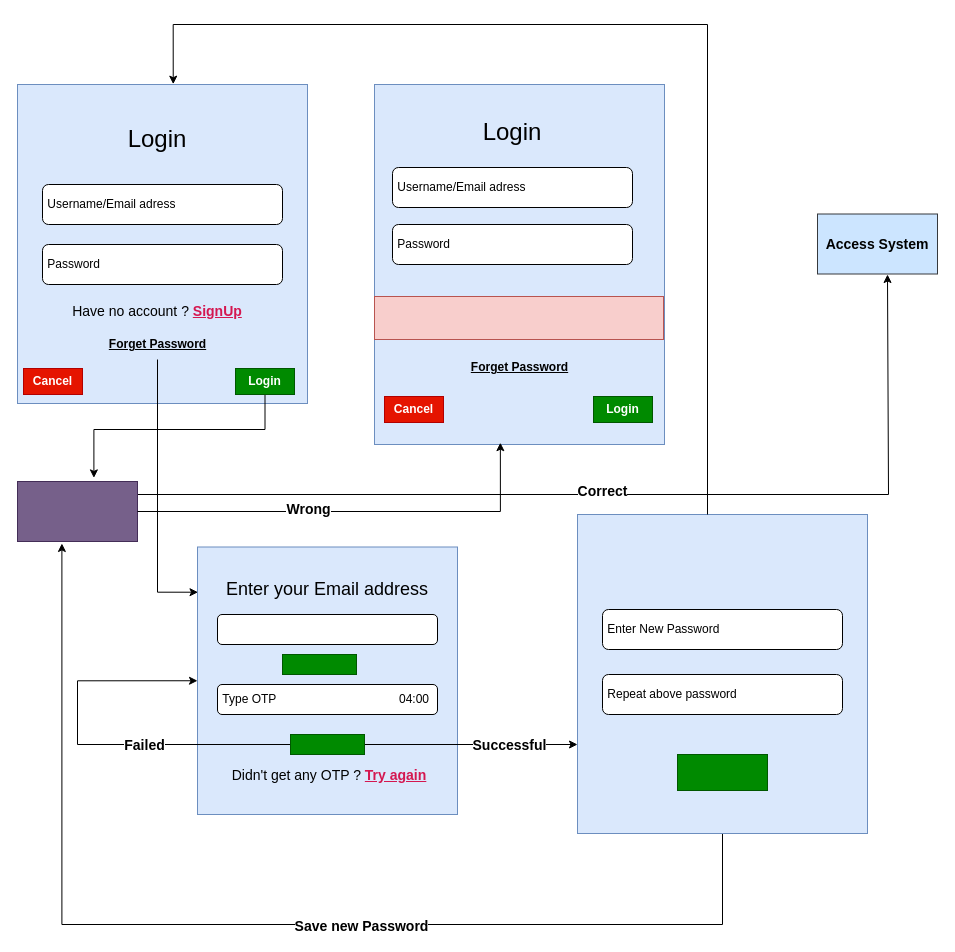
The diagram is 955 pixels wide and 952 high, and some of its shapes have lost their labels. Here are the shapes that lost their labels. From the top down, the centre of each, then its label:
At (x=519, y=318): "Username/Email and password don't match".
At (x=77, y=511): "Database".
At (x=327, y=629): "Email address".
At (x=319, y=664): "Send OTP".
At (x=327, y=744): "Verify".
At (x=722, y=772): "Confirm".
